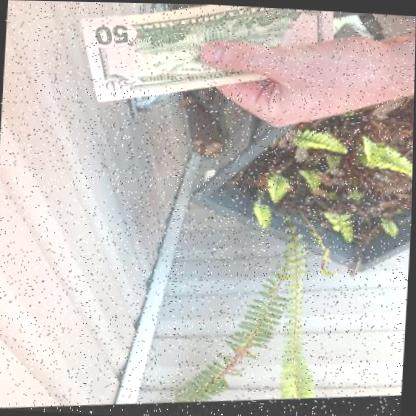fifty-back: (77, 4, 333, 103)
